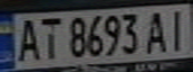3: (118, 10, 145, 56)
6: (84, 12, 106, 59)
8: (63, 12, 87, 59)
9: (103, 11, 124, 57)
A: (12, 15, 42, 62), (142, 8, 172, 55)
I: (163, 6, 193, 54)
T: (36, 14, 63, 61)
